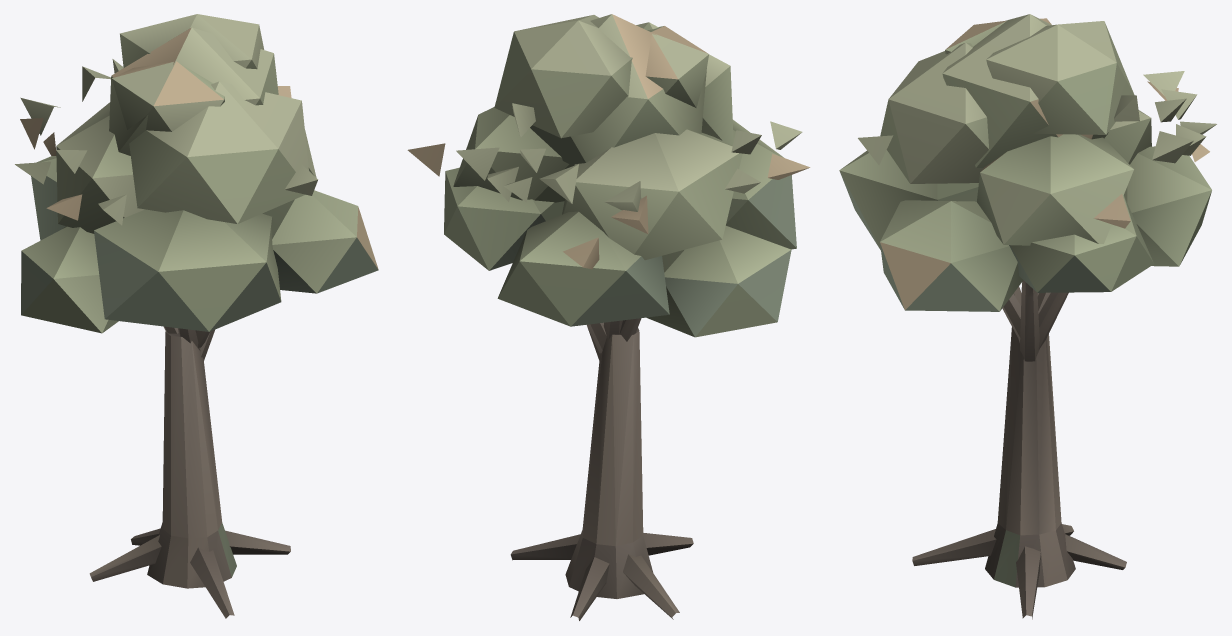
The model's file is maple.lod1.glb.
3 views of the same model, side by side, from view 1: azimuth 30°, elevation 25°; view 2: azimuth 150°, elevation 25°; view 3: azimuth 270°, elevation 25° (orthographic). The views are drawn at different scales.
Size of the model in its own units: 3.53 by 5.87 by 3.59.
